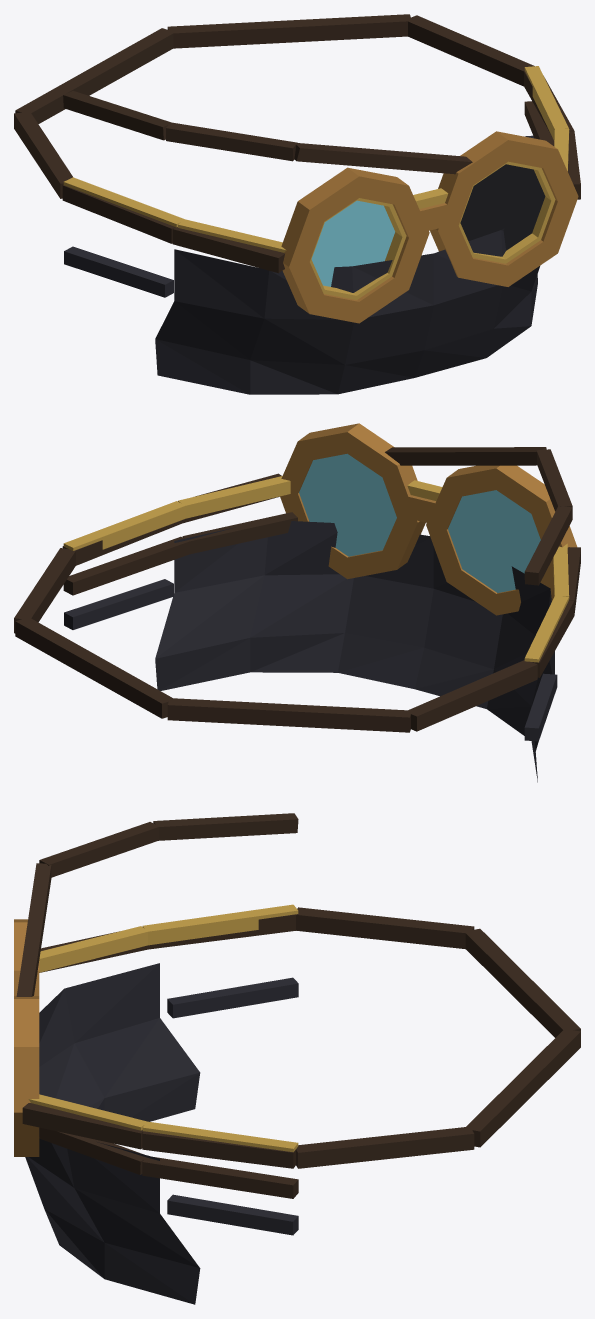
3 renders of one model, top to bottom at view 1: azimuth 30°, elevation 25°; view 2: azimuth 150°, elevation 25°; view 3: azimuth 270°, elevation 25°, orthographic. The views are drawn at different scales.
Parts seen in each view (by area): view 1: Goggles, Cloth_Mask, Eye_Patch, Round_Glasses; view 2: Cloth_Mask, Goggles, Eye_Patch, Round_Glasses; view 3: Cloth_Mask, Goggles, Eye_Patch, Round_Glasses.
Part boxes in pixels (x1,y1,x2,y2): Goggles: (14,14,580,323); Cloth_Mask: (64,135,539,394); Eye_Patch: (63,91,554,250); Round_Glasses: (63,66,569,299); Cloth_Mask: (64,521,557,782); Goggles: (14,423,580,732); Eye_Patch: (63,447,572,595); Round_Glasses: (63,476,569,662); Cloth_Mask: (25,963,298,1304); Goggles: (14,907,580,1168); Eye_Patch: (16,813,298,1198); Round_Glasses: (28,904,298,1152).
Size of the model in its own units: 1.15 by 0.615 by 1.13.
Materials: 1 (1 with a texture image).
